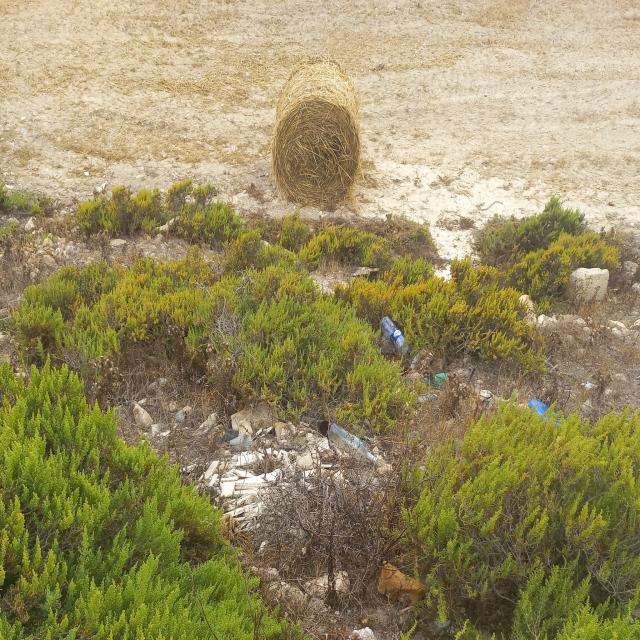Bottle: (328, 422, 378, 464), (379, 316, 412, 356), (424, 372, 450, 385), (410, 391, 434, 403)
Other plastic: (528, 399, 564, 427), (220, 426, 254, 451), (191, 412, 218, 437)
Styrofoam piece: (194, 461, 287, 532), (237, 452, 266, 467), (315, 437, 329, 455), (319, 463, 336, 469)
